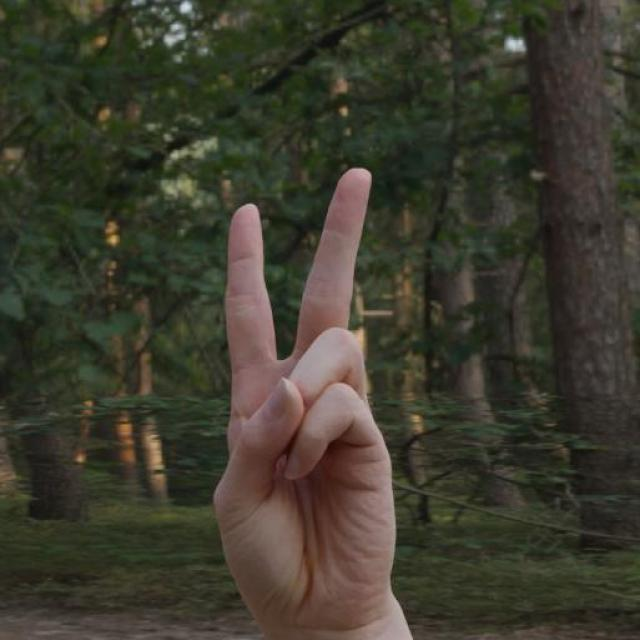V: (210, 165, 402, 633)
